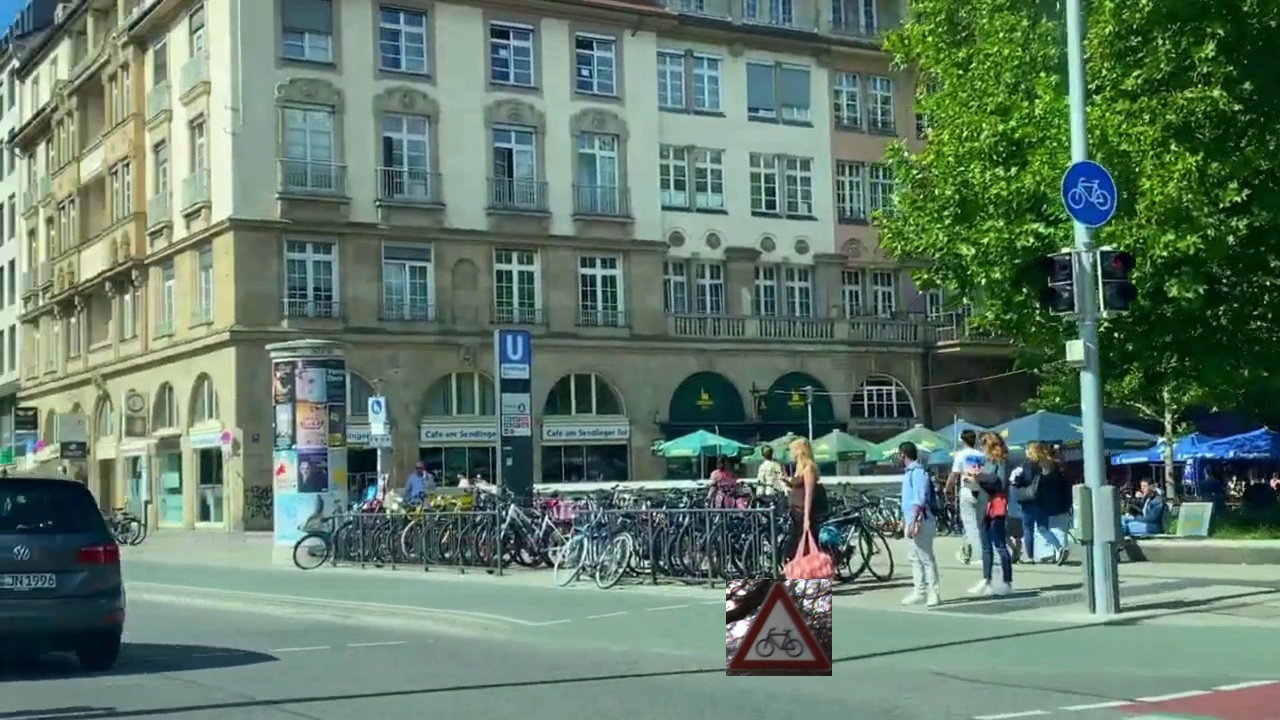Bicycles: (726, 579, 832, 676)
